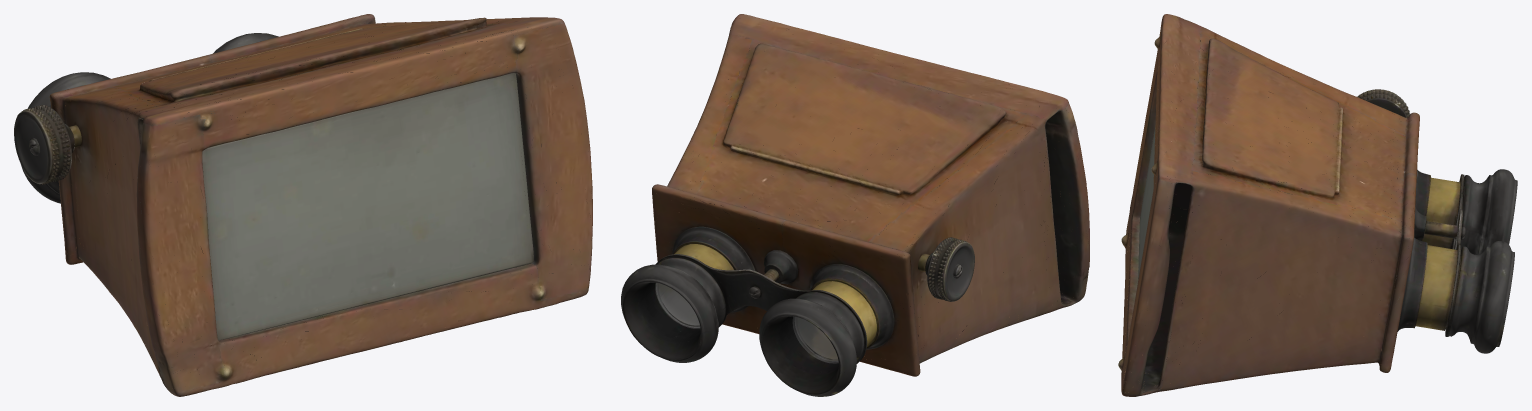
Rendered from stereoscopy.glb.
3 views of the same model, side by side, from view 1: azimuth 30°, elevation 25°; view 2: azimuth 150°, elevation 25°; view 3: azimuth 270°, elevation 25° (orthographic). The views are drawn at different scales.
Parts seen in each view (by area): view 1: Object; view 2: Object; view 3: Object.
Part boxes in pixels (<box>): Object: <box>14,14,592,396</box>; Object: <box>621,14,1089,396</box>; Object: <box>1118,14,1517,396</box>.
Size of the model in its own units: 20.5 by 11.89 by 19.16.
Materials: 6 (4 with a texture image).
